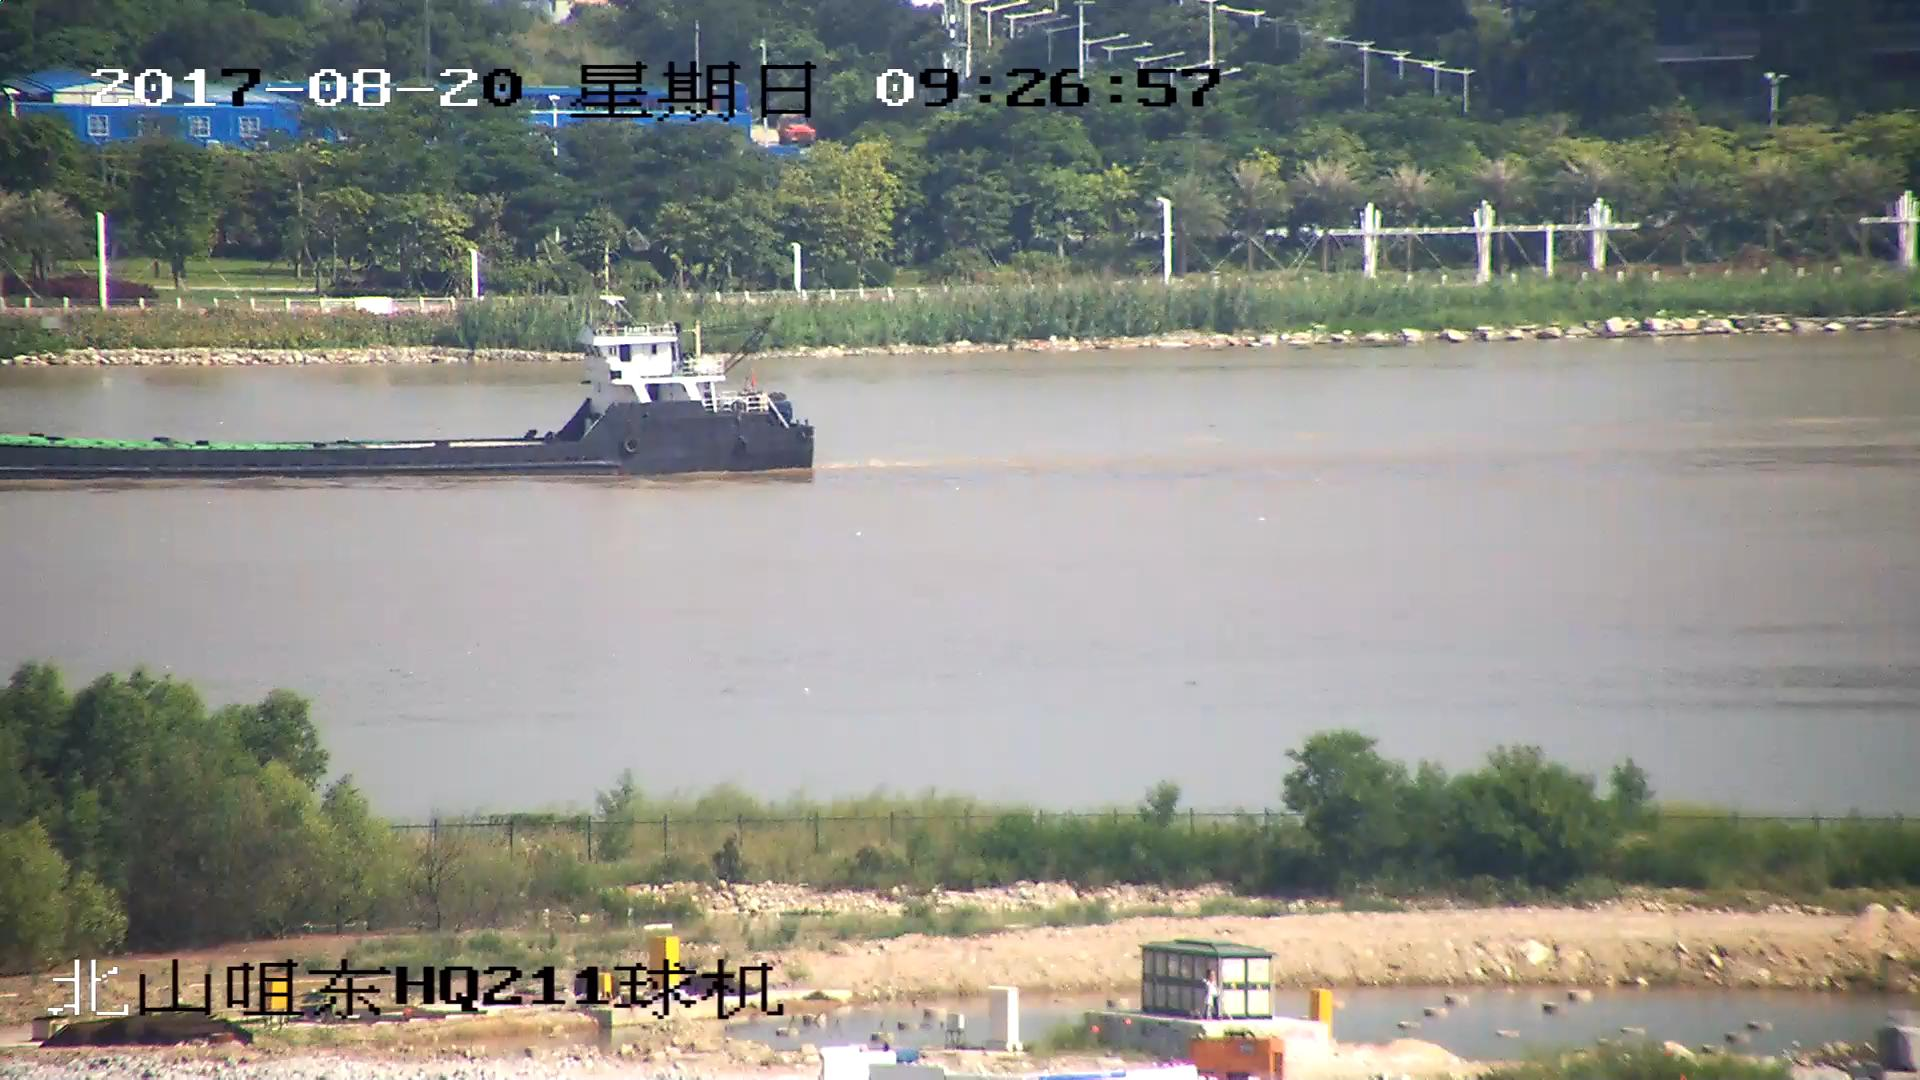general cargo ship: (1, 319, 817, 484)
